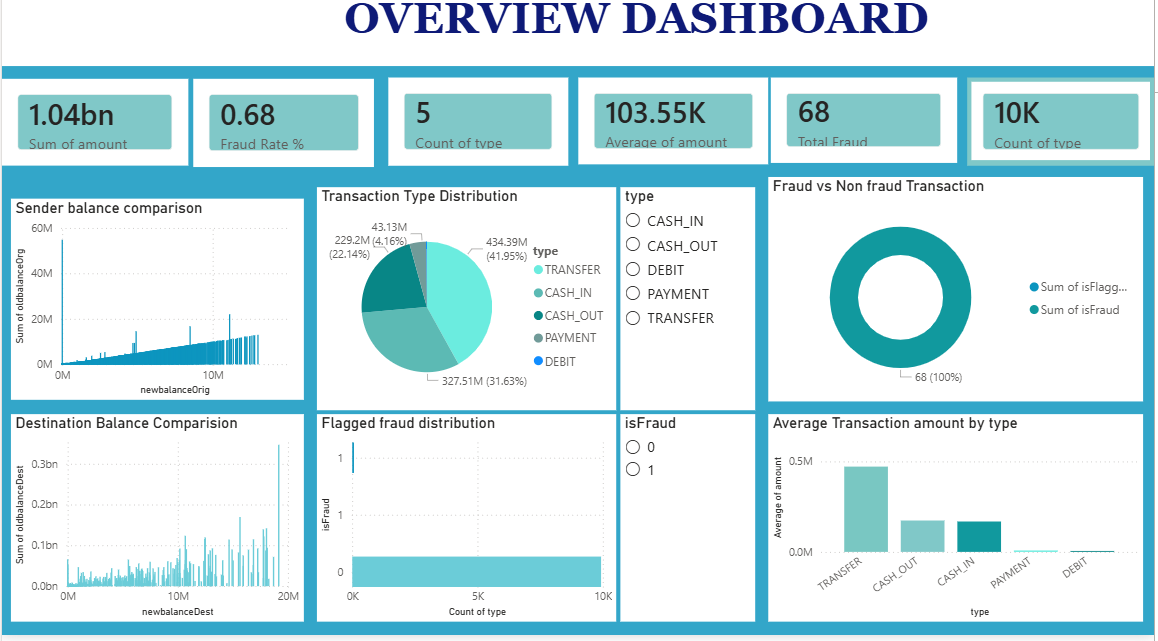

The dashboard page shown, as its layout file describes it:
{"tool":"powerbi","page":{"name":"Page 1","canvas":[1280,720],"ordinal":0},"visuals":[{"type":"donutChart","title":"Fraud vs Non fraud Transaction","fields":{"Y":["Sum(paysim_dashboard.isFlaggedFraud)","Sum(paysim_dashboard.isFraud)"]},"box":[851.4,211.1,416.5,249.3],"z":0},{"type":"clusteredColumnChart","title":"Sender balance comparison","fields":{"Category":["paysim_dashboard.newbalanceOrig"],"Y":["Sum(paysim_dashboard.oldbalanceOrg)"]},"box":[9.9,235.2,325.8,223.8],"z":1000},{"type":"clusteredColumnChart","title":"Destination Balance Comparision","fields":{"Category":["paysim_dashboard.newbalanceDest"],"Y":["Sum(paysim_dashboard.oldbalanceDest)"]},"box":[9.9,474.6,325.8,230.9],"z":2000},{"type":"clusteredColumnChart","title":"Average Transaction amount by type","fields":{"Category":["paysim_dashboard.type"],"Y":["Avg(paysim_dashboard.amount)"]},"box":[851.4,474.6,416.5,230.9],"z":3000},{"type":"pieChart","title":" Transaction Type Distribution","fields":{"Category":["paysim_dashboard.type"],"Y":["Sum(paysim_dashboard.amount)"]},"box":[349.9,222.4,332.9,247.9],"z":4000},{"type":"barChart","title":"Flagged fraud distribution","fields":{"Category":["paysim_dashboard.isFraud"],"Y":["CountNonNull(paysim_dashboard.type)"]},"box":[349.9,474.6,332.9,230.9],"z":5000},{"type":"cardVisual","fields":{"Data":["Sum(paysim_dashboard.amount)"]},"box":[0,102,206.8,96.3],"z":6000},{"type":"cardVisual","fields":{"Data":["CountNonNull(paysim_dashboard.type)"]},"box":[1072.4,100.6,208.3,97.8],"z":7000},{"type":"cardVisual","fields":{"Data":["Avg(paysim_dashboard.amount)"]},"box":[640.3,100.6,211.1,96.3],"z":8000},{"type":"cardVisual","fields":{"Data":["Count(paysim_dashboard.type)"]},"box":[429.3,100.6,199.8,97.8],"z":9000},{"type":"cardVisual","fields":{"Data":["paysim_dashboard.Total Fraud"]},"box":[854.3,100.6,206.8,94.9],"z":10000},{"type":"cardVisual","fields":{"Data":["paysim_dashboard.Fraud Rate %"]},"box":[212.5,102,201.2,97.8],"z":11000},{"type":"textbox","box":[0,0,1280.7,87.8],"z":12000},{"type":"listSlicer","fields":{"Values":["paysim_dashboard.type"]},"box":[687.1,222.4,150.2,247.9],"z":12001},{"type":"listSlicer","fields":{"Values":["paysim_dashboard.isFraud"]},"box":[687.1,474.6,150.2,230.9],"z":12002}]}

Visuals, with their boxes in screenshot pixels (x1, y1, x2, y2), scaled from the page's 1280x720 canvas onto the 1158x641 screenshot:
"Fraud vs Non fraud Transaction" donutChart: [770, 188, 1147, 410]
"Sender balance comparison" clusteredColumnChart: [9, 209, 304, 409]
"Destination Balance Comparision" clusteredColumnChart: [9, 423, 304, 628]
"Average Transaction amount by type" clusteredColumnChart: [770, 423, 1147, 628]
" Transaction Type Distribution" pieChart: [317, 198, 618, 419]
"Flagged fraud distribution" barChart: [317, 423, 618, 628]
cardVisual - Sum(paysim_dashboard.amount): [0, 91, 187, 177]
cardVisual - CountNonNull(paysim_dashboard.type): [970, 90, 1157, 177]
cardVisual - Avg(paysim_dashboard.amount): [579, 90, 770, 175]
cardVisual - Count(paysim_dashboard.type): [388, 90, 569, 177]
cardVisual - paysim_dashboard.Total Fraud: [773, 90, 960, 174]
cardVisual - paysim_dashboard.Fraud Rate %: [192, 91, 374, 178]
textbox: [0, 0, 1157, 78]
listSlicer - paysim_dashboard.type: [622, 198, 757, 419]
listSlicer - paysim_dashboard.isFraud: [622, 423, 757, 628]
